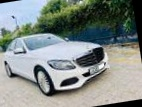car: (0, 23, 113, 103)
